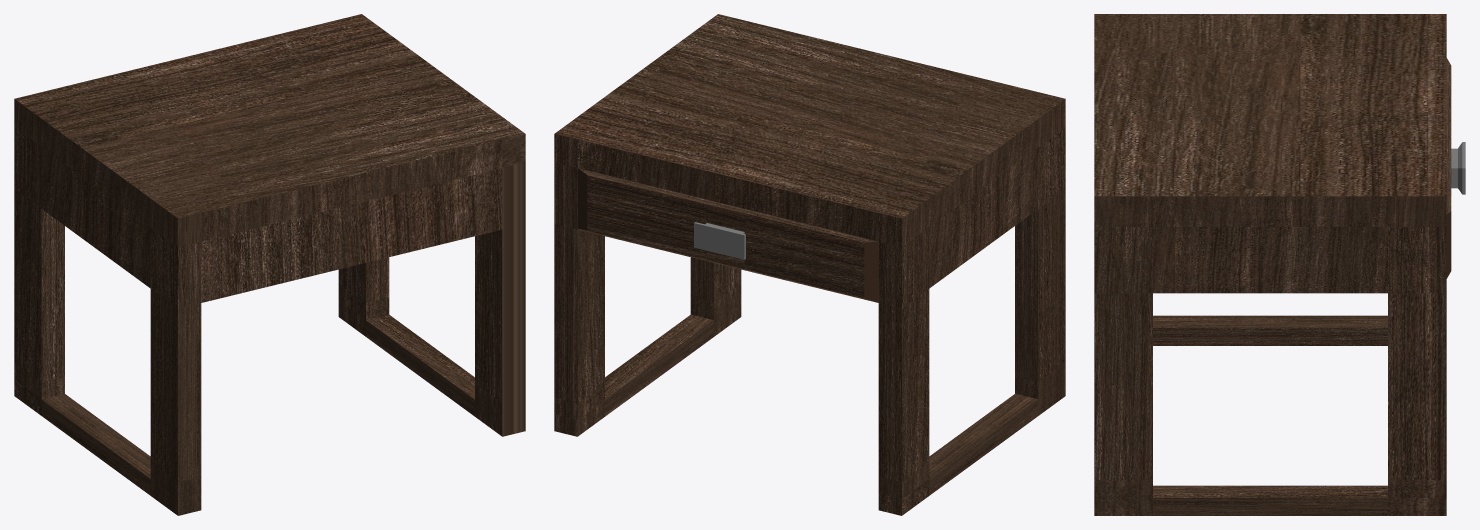
Rendered from Desk1.fbx.
3 renders of one model, left to right at view 1: azimuth 30°, elevation 25°; view 2: azimuth 150°, elevation 25°; view 3: azimuth 270°, elevation 25°, orthographic. The views are drawn at different scales.
Parts seen in each view (by area): view 1: Cube.005; view 2: Cube.005, Cube.006; view 3: Cube.005, Cube.006.
Part boxes in pixels (x1,y1,x2,y2): Cube.005: (14,14,525,515); Cube.005: (554,14,1065,515); Cube.006: (578,168,878,301); Cube.005: (1094,14,1446,515); Cube.006: (1446,58,1465,278).
Size of the model in its own units: 485 by 396 by 417.
